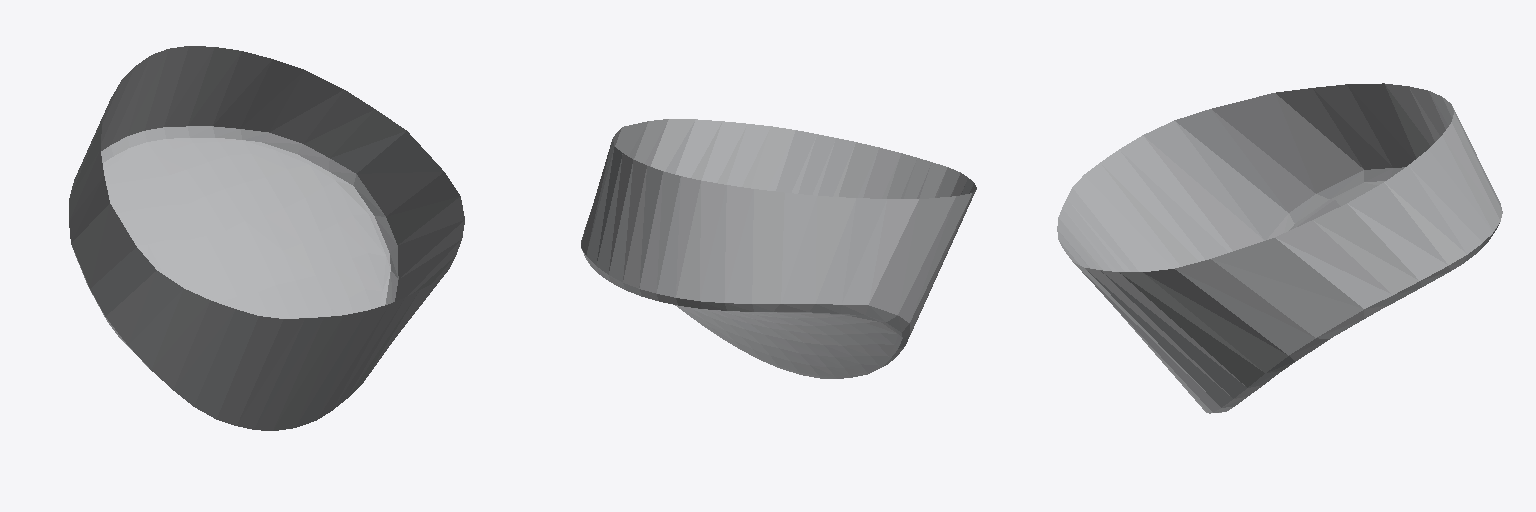
3 renders of one model, left to right at view 1: azimuth 30°, elevation 25°; view 2: azimuth 150°, elevation 25°; view 3: azimuth 270°, elevation 25°, orthographic.
Parts seen in each view (by area): view 1: trigger; view 2: trigger; view 3: trigger.
Part boxes in pixels (x1,y1,x2,y2): trigger: (69, 46, 464, 430); trigger: (581, 119, 976, 378); trigger: (1057, 83, 1502, 413).
Size of the model in its own units: 0.0271 by 0.0242 by 0.034.
1 materials, 1 textured.